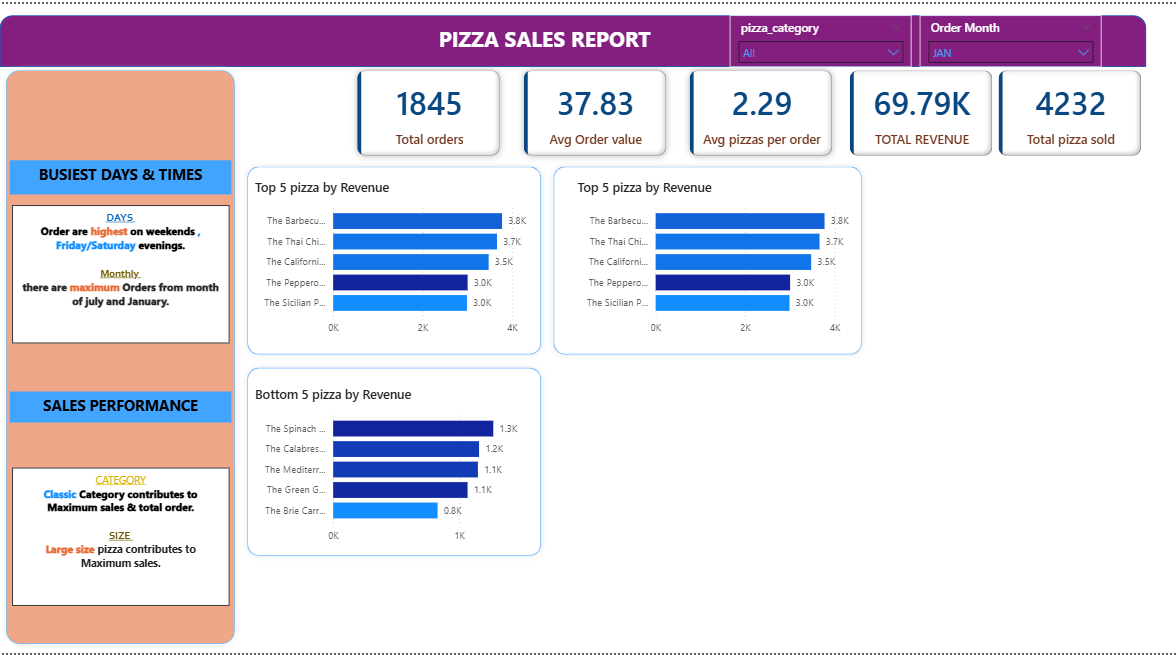

This screenshot's page, from the dashboard's own definition file:
{"tool":"powerbi","page":{"name":"Duplicate of HOME","canvas":[1500,820],"ordinal":1},"visuals":[{"type":"cardVisual","fields":{"Data":["pizza_sales.Total orders","pizza_sales.Avg Order value","pizza_sales.Avg pizzas per order"]},"box":[447.2,68.1,633.3,140.3],"z":0},{"type":"cardVisual","fields":{"Data":["pizza_sales.TOTAL REVENUE","pizza_sales.Total pizza sold"]},"box":[1080.6,79.2,379.2,118.1],"z":1000},{"type":"shape","box":[11.1,13.9,1448.6,65.3],"z":2000},{"type":"textbox","box":[544.4,20.8,316.7,54.2],"z":3000},{"type":"shape","box":[316.1,197.8,387.2,253.5],"z":4000},{"type":"shape","box":[11.1,75.2,305,740.9],"z":5000},{"type":"textbox","box":[26.5,254.9,274.4,174.1],"z":6000},{"type":"textbox","box":[23.7,197.8,279.9,43.2],"z":7000},{"type":"textbox","box":[23.7,488.8,279.9,39],"z":8000},{"type":"textbox","box":[26.5,586.3,274.4,174.1],"z":9000},{"type":"slicer","fields":{"Values":["pizza_sales.pizza_category"]},"box":[933.1,13.9,229.8,65.5],"z":10000},{"type":"slicer","fields":{"Values":["pizza_sales.ORDER Month"]},"box":[1174,13.9,229.8,65.5],"z":11000},{"type":"shape","box":[703.3,197.8,405.3,253.5],"z":12000},{"type":"shape","box":[316.1,451.2,387.2,253.5],"z":14000},{"type":"barChart","title":"Top 5 pizza by Revenue ","fields":{"Category":["pizza_sales.pizza_name"],"Y":["pizza_sales.TOTAL REVENUE"]},"box":[328.5,219.5,363.2,208.5],"z":17000},{"type":"barChart","title":"Bottom 5 pizza by Revenue ","fields":{"Category":["pizza_sales.pizza_name"],"Y":["pizza_sales.TOTAL REVENUE"]},"box":[328.5,481.7,363.2,208.5],"z":18000},{"type":"barChart","title":"Top 5 pizza by Revenue ","fields":{"Category":["pizza_sales.pizza_name"],"Y":["pizza_sales.TOTAL REVENUE"]},"box":[735.9,219.5,363.2,208.5],"z":19000}]}

Visuals, with their boxes in screenshot pixels (x1, y1, x2, y2), scaled from the page's 1500x820 canvas onto the 1176x655 screenshot:
cardVisual - pizza_sales.Total orders x pizza_sales.Avg Order value: 351/54/847/166
cardVisual - pizza_sales.TOTAL REVENUE x pizza_sales.Total pizza sold: 847/63/1144/158
shape: 9/11/1144/63
textbox: 427/17/675/60
shape: 248/158/551/360
shape: 9/60/248/652
textbox: 21/204/236/343
textbox: 19/158/238/193
textbox: 19/390/238/422
textbox: 21/468/236/607
slicer - pizza_sales.pizza_category: 732/11/912/63
slicer - pizza_sales.ORDER Month: 920/11/1101/63
shape: 551/158/869/360
shape: 248/360/551/563
"Top 5 pizza by Revenue " barChart: 258/175/542/342
"Bottom 5 pizza by Revenue " barChart: 258/385/542/551
"Top 5 pizza by Revenue " barChart: 577/175/862/342
